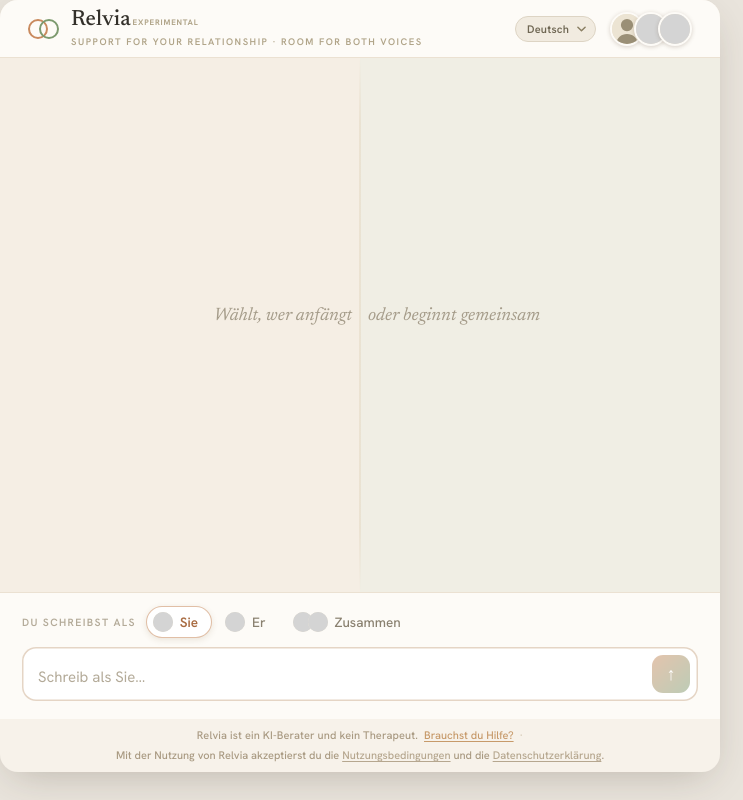
Scenario: przełącznik języka › użytkownik zmienia de→en, „odświeża stronę" i nadal widzi angielski (mimo przeglądarki de-DE)
Select "English" in the dropdown named "Sprache" at (556, 28), box [515,16,596,42]
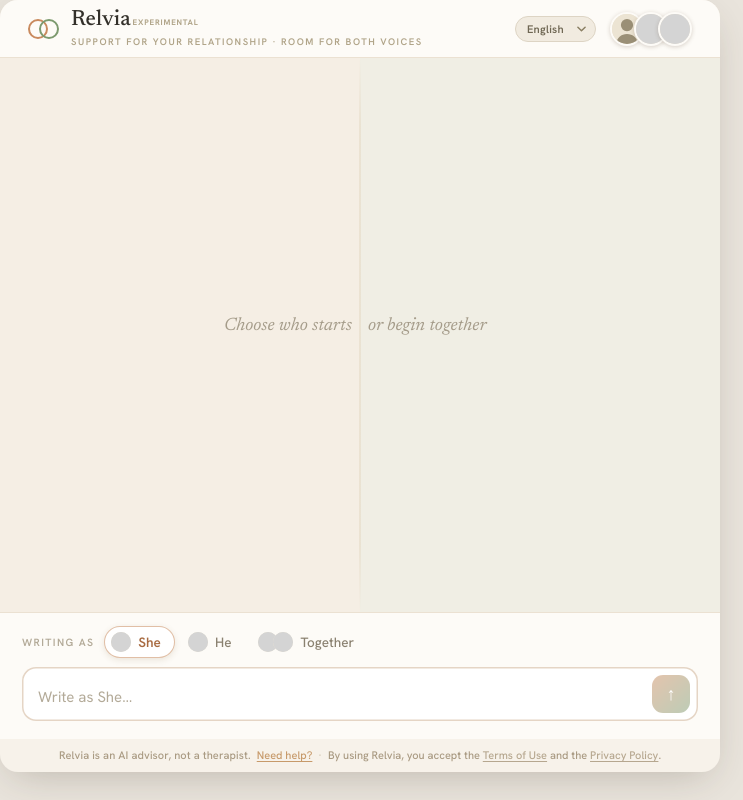
Check: the text with class "author-select-label" reads "Writing as", box [22,635,94,649]
